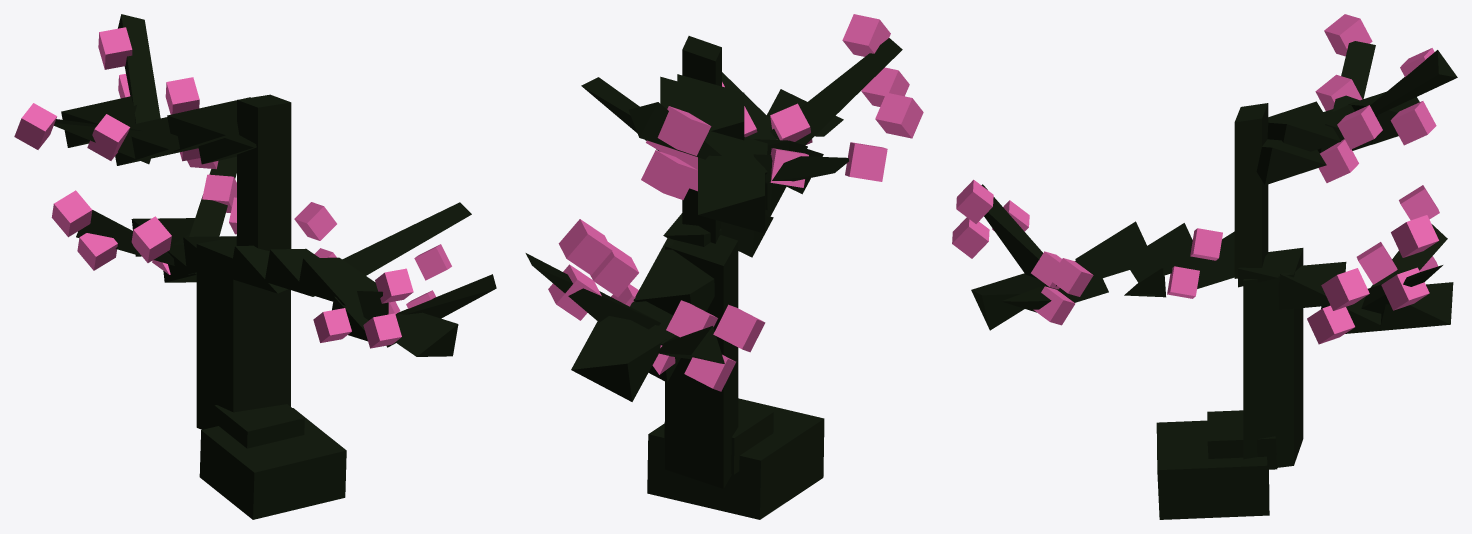
3 renders of one model, left to right at view 1: azimuth 30°, elevation 25°; view 2: azimuth 150°, elevation 25°; view 3: azimuth 270°, elevation 25°, orthographic. The views are drawn at different scales.
Parts seen in each view (by area): view 1: 立方体.007, 立方体.028; view 2: 立方体.007, 立方体.028; view 3: 立方体.007, 立方体.028.
Part boxes in pixels (bbox=[...]): 立方体.007: bbox=[54, 14, 496, 519]; 立方体.028: bbox=[14, 27, 451, 348]; 立方体.007: bbox=[525, 36, 902, 519]; 立方体.028: bbox=[548, 14, 923, 391]; 立方体.007: bbox=[971, 41, 1457, 519]; 立方体.028: bbox=[952, 14, 1439, 344].
Size of the model in its own units: 723 by 812 by 877.
